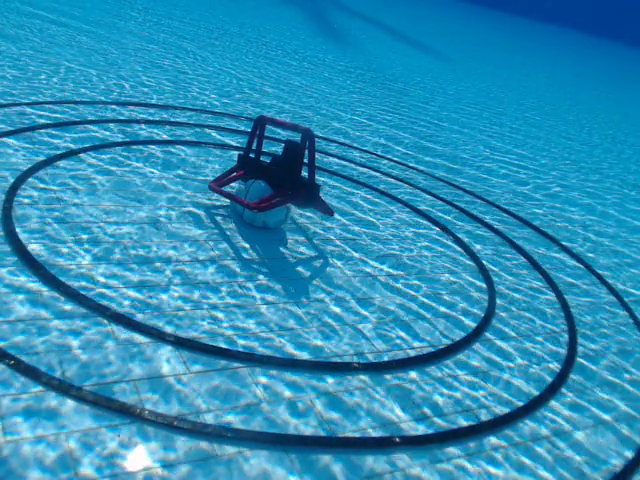submarine: (207, 114, 339, 221)
